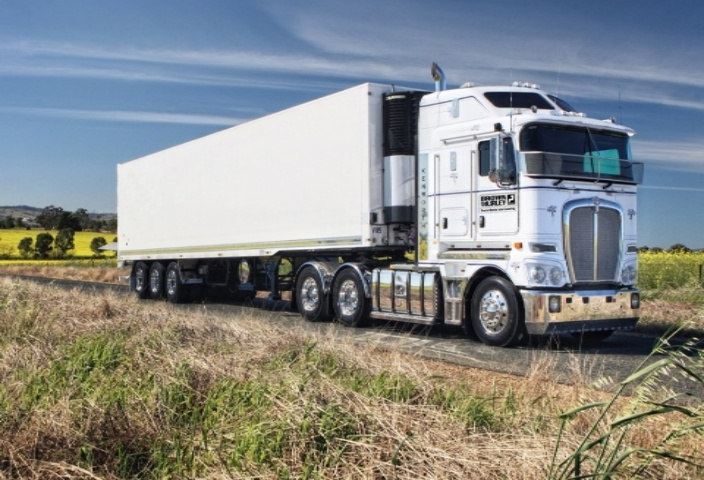truck: (74, 82, 641, 369)
